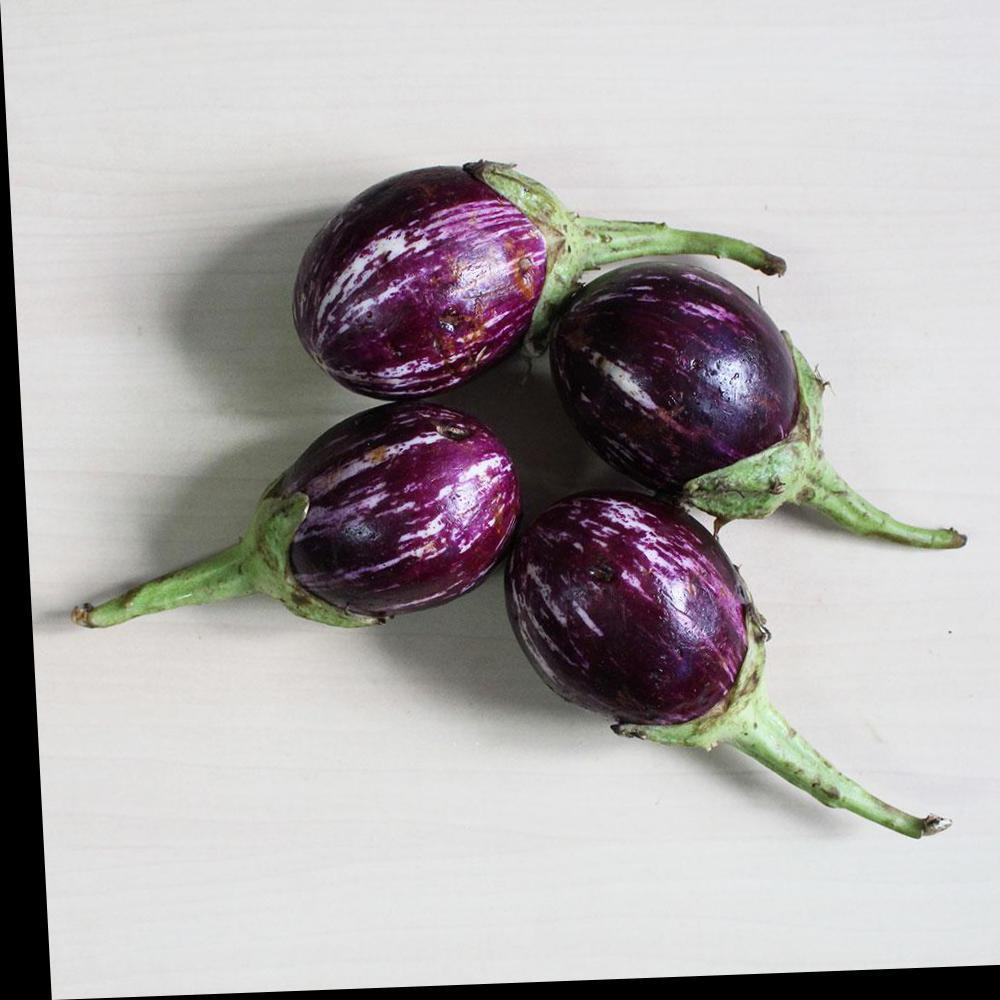eggplant: (387, 425, 966, 889), (483, 173, 999, 585), (186, 95, 744, 392), (71, 392, 532, 692)
